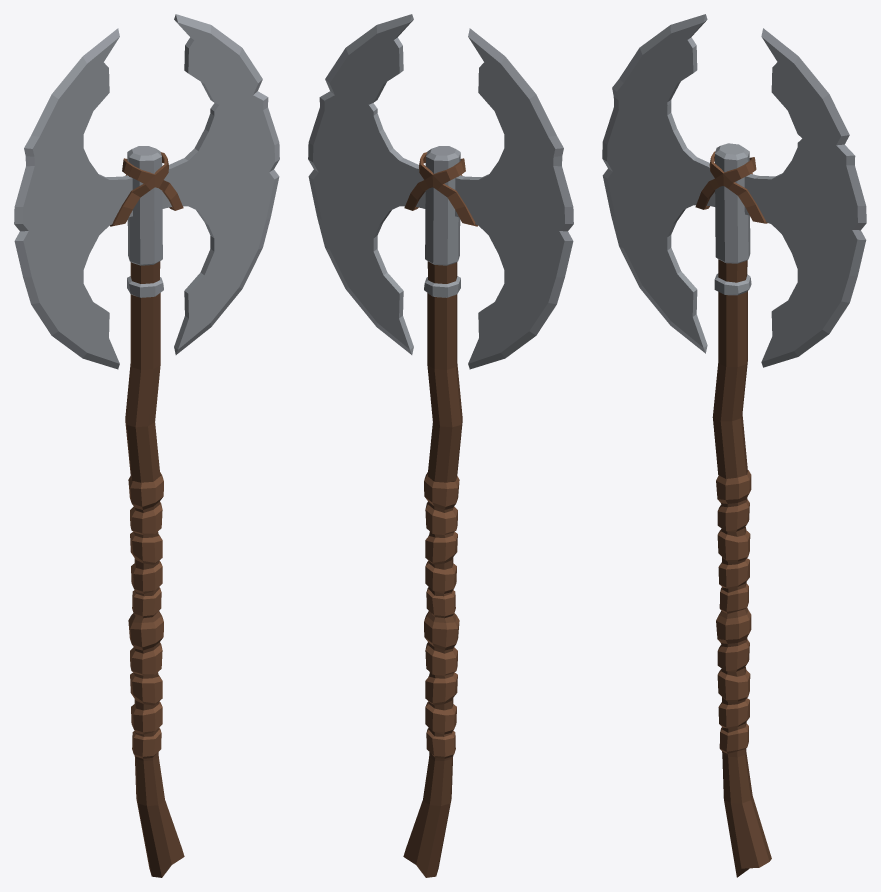
File: armory-berserker-1.glb
The picture shows the model from 3 angles, left to right: view 1: azimuth 30°, elevation 25°; view 2: azimuth 150°, elevation 25°; view 3: azimuth 330°, elevation 25°; orthographic projection.
Visible parts, largest first — view 1: Axe_Double_Cylinder.004; view 2: Axe_Double_Cylinder.004; view 3: Axe_Double_Cylinder.004.
Boxes of the visible parts, left/top/right/bottom form: Axe_Double_Cylinder.004: left=14, top=14, right=279, bottom=877; Axe_Double_Cylinder.004: left=308, top=14, right=573, bottom=877; Axe_Double_Cylinder.004: left=602, top=14, right=866, bottom=877.
Size of the model in its own units: 2.06 by 6.35 by 0.2609.
